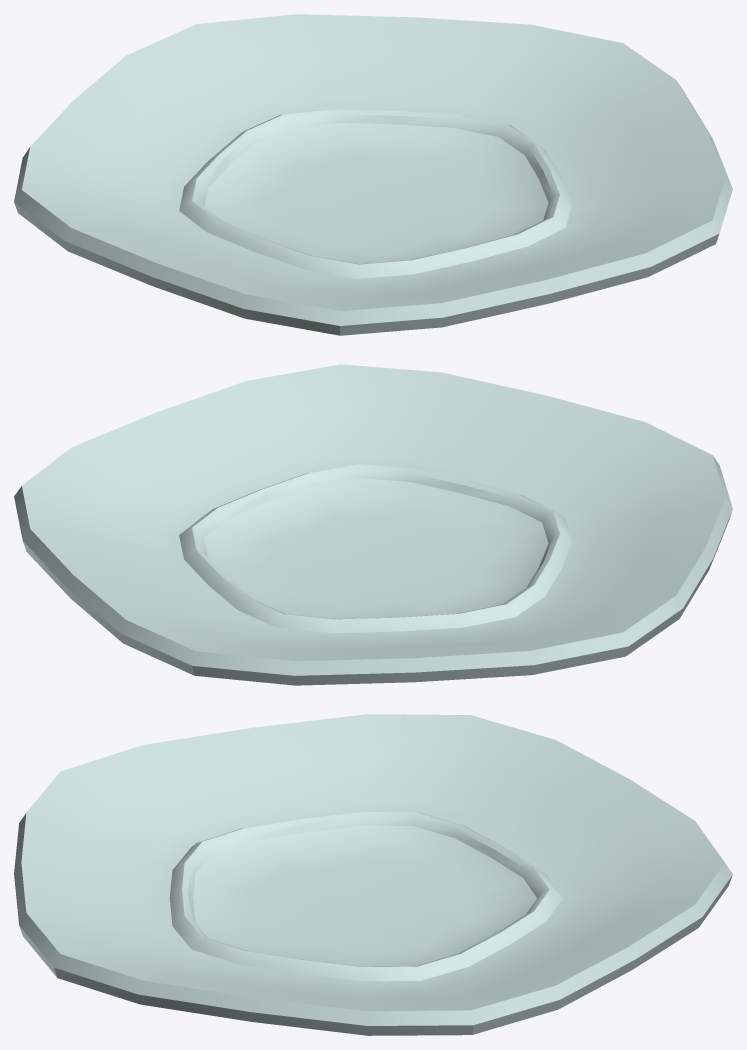
The model's file is fincan.fbx.
3 views of the same model, one above another, from view 1: azimuth 30°, elevation 25°; view 2: azimuth 150°, elevation 25°; view 3: azimuth 270°, elevation 25° (orthographic).
Parts seen in each view (by area): view 1: fincan; view 2: fincan; view 3: fincan.
Boxes of the visible parts, x1,y1,x2,y2 form: fincan: (14, 14, 732, 335); fincan: (14, 364, 732, 685); fincan: (14, 714, 732, 1035).
Size of the model in its own units: 866 by 104 by 866.
